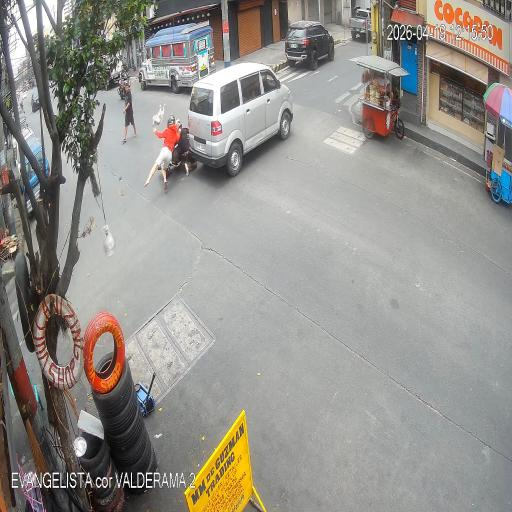Car: (194, 68, 294, 173)
Minor Accident: (152, 66, 294, 194)
Motor: (154, 112, 196, 188)
